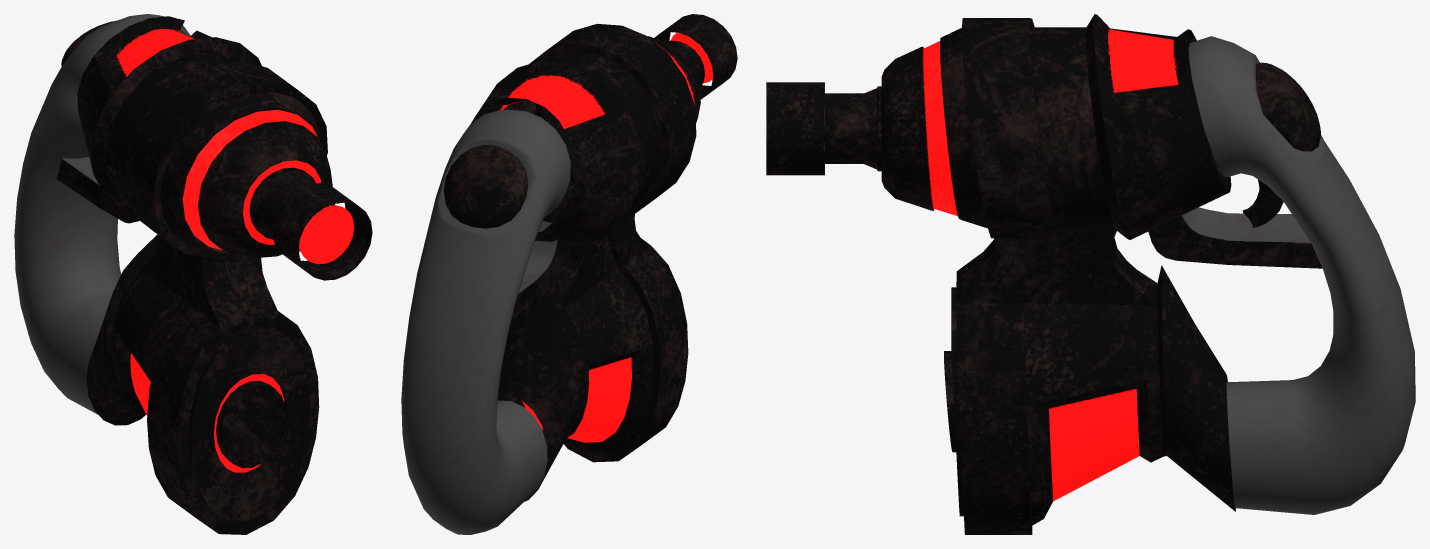
Rendered from BuildTool.fbx.
The picture shows the model from 3 angles, left to right: view 1: azimuth 30°, elevation 25°; view 2: azimuth 150°, elevation 25°; view 3: azimuth 270°, elevation 25°; orthographic projection. The views are drawn at different scales.
Parts seen in each view (by area): view 1: polySurface10; view 2: polySurface10; view 3: polySurface10.
Part boxes in pixels (box(x1,y1,x2,y2)): polySurface10: box(14, 14, 372, 534); polySurface10: box(401, 14, 737, 534); polySurface10: box(766, 14, 1415, 534).
Size of the model in its own units: 0.074 by 0.1797 by 0.2097.
Materials: 1 (1 with a texture image).
